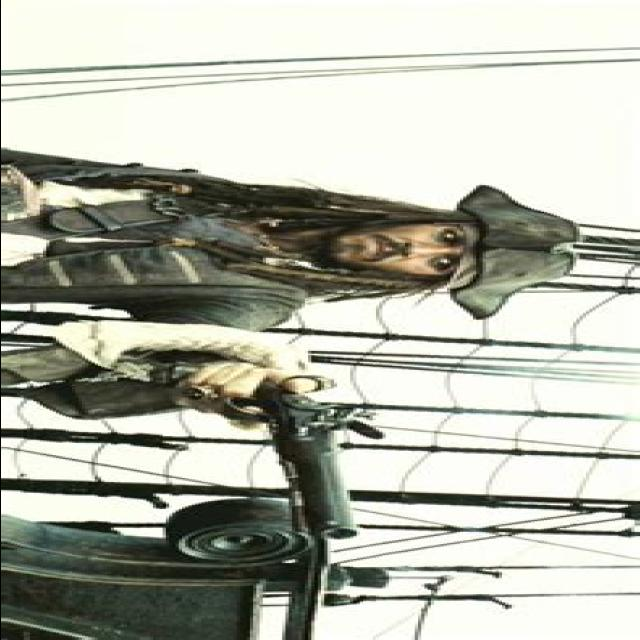weapons: (140, 349, 394, 553)
